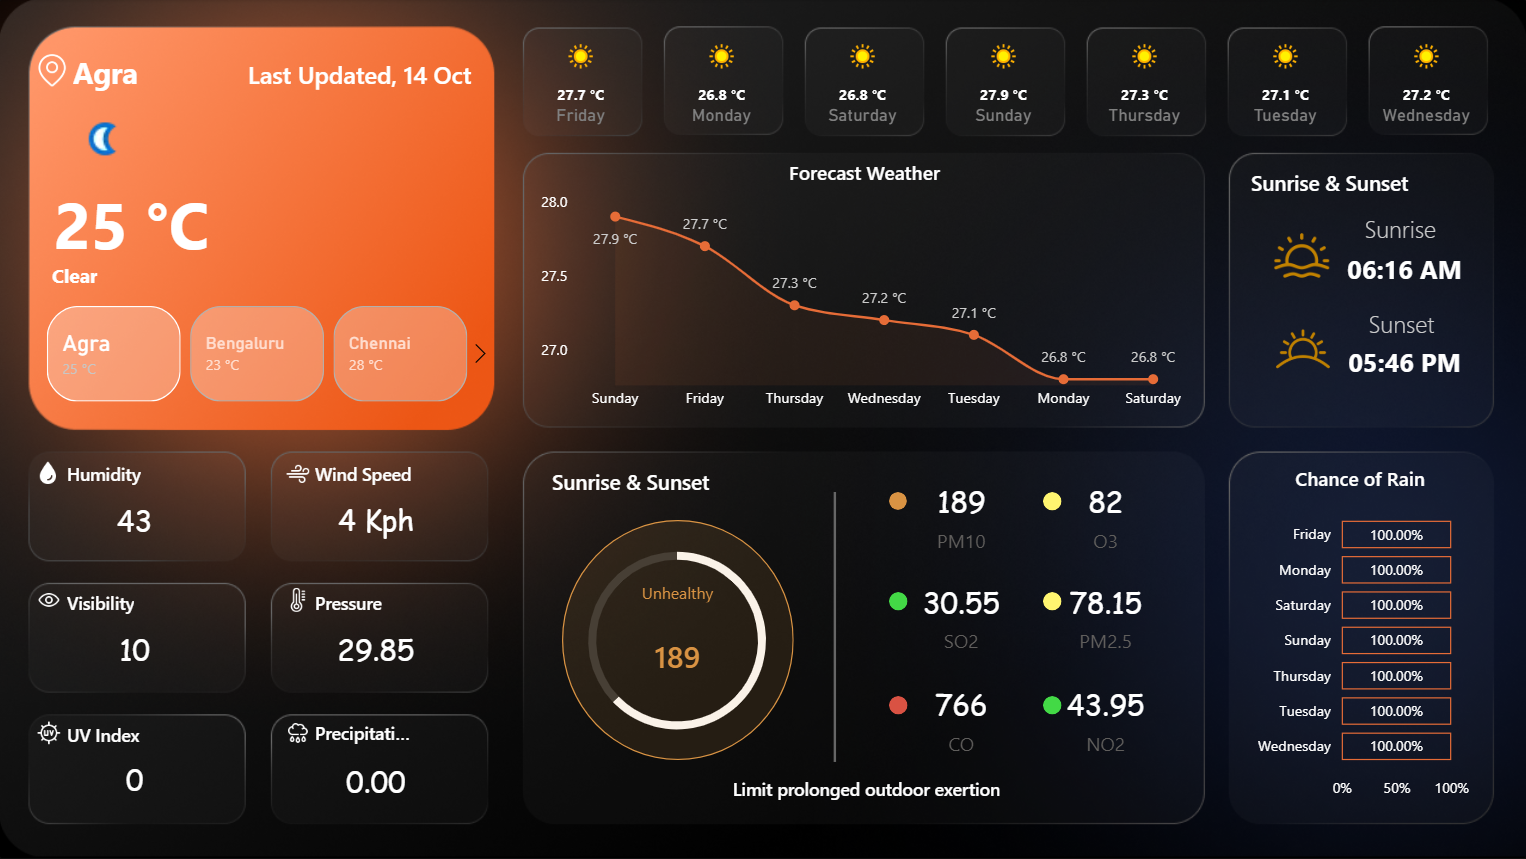

The dashboard page shown, as its layout file describes it:
{"tool":"powerbi","page":{"name":"Page 1","canvas":[1280,720],"ordinal":0},"visuals":[{"type":"donutChart","fields":{"Y":["Sum(Current.current.air_quality.pm10)","_Measures.Left_value_PM10"]},"box":[470,426,196,222],"z":0},{"type":"advancedSlicerVisual","fields":{"Values":["Locations.location.name"]},"box":[15.1,251.9,403.3,90.8],"z":1000},{"type":"shape","box":[15.7,141.4,190,90],"z":2000},{"type":"shape","box":[44.7,213.8,356.3,34.9],"z":3000},{"type":"shape","box":[61.9,44,133.5,34.4],"z":4000},{"type":"shape","box":[208.2,46.1,206.8,33.5],"z":5000},{"type":"image","box":[26.2,39.9,37.2,39.9],"z":6000},{"type":"cardVisual","fields":{"Data":["Min(Current.current.condition.icon)"]},"box":[0,55.7,150,111.4],"z":7000},{"type":"image","box":[27,488.5,29.6,29.6],"z":8000},{"type":"shape","box":[264.7,384,83.6,26.1],"z":9000},{"type":"image","box":[26.1,381.4,30.5,30.5],"z":10000},{"type":"image","box":[235.1,382.3,29.6,29.6],"z":11000},{"type":"image","box":[235.1,488.5,29.6,29.6],"z":12000},{"type":"image","box":[27,599.1,29.6,29.6],"z":13000},{"type":"image","box":[235.1,599.1,29.6,29.6],"z":14000},{"type":"shape","box":[56.6,492,83.6,26.1],"z":15000},{"type":"shape","box":[56.6,602.6,83.6,26.1],"z":16000},{"type":"shape","box":[264.7,600.8,83.6,26.1],"z":17000},{"type":"shape","box":[264.7,492,83.6,26.1],"z":18000},{"type":"shape","box":[56.6,384,83.6,26.1],"z":19000},{"type":"card","fields":{"Values":["Sum(Current.current.humidity)"]},"box":[62,410.2,103,55.3],"z":20000},{"type":"card","fields":{"Values":["Sum(Current.current.uv)"]},"box":[62,627.1,103,56.1],"z":21000},{"type":"card","fields":{"Values":["Sum(Current.current.vis_km)"]},"box":[62,518.2,103,56.1],"z":22000},{"type":"card","fields":{"Values":["Sum(Current.current.precip_in)"]},"box":[264.1,628.8,103.4,55.9],"z":23000},{"type":"card","fields":{"Values":["Sum(Current.current.pressure_in)"]},"box":[264.1,518.4,103.4,55.9],"z":24000},{"type":"card","fields":{"Values":["_Measures.Wind_Speed"]},"box":[254.5,409.4,122.2,56.1],"z":25000},{"type":"advancedSlicerVisual","fields":{"Values":["Forcast_Day.Day_Name"]},"box":[429.4,23.4,829.9,100.5],"z":26000},{"type":"lineChart","title":"Forecast Weather","fields":{"Y":["Sum(Forcast_Day.forecast.forecastday.day.avgtemp_c)"],"Category":["Forcast_Day.Day_Name"]},"box":[447.9,134.8,553.4,217.7],"z":27000},{"type":"shape","box":[1048.4,140.9,152.4,25.9],"z":28000},{"type":"shape","box":[1081.3,180,190.5,90.7],"z":29000},{"type":"shape","box":[1081.3,257.5,190.5,90.7],"z":30000},{"type":"shape","box":[1132.6,257.5,82.8,26.3],"z":31000},{"type":"shape","box":[1131.2,178.7,84.1,26.3],"z":32000},{"type":"image","box":[1051.1,186.6,80.1,56.5],"z":33000},{"type":"image","box":[1051.1,257.5,81.5,69.6],"z":34000},{"type":"hundredPercentStackedBarChart","title":"Chance of Rain","fields":{"Y":["Sum(Forcast_Day.forecast.forecastday.day.daily_chance_of_rain)","Current.Left_value_Rain"],"Category":["Forcast_Day.Day_Name"]},"box":[1043.3,390.9,192.7,287.7],"z":35000},{"type":"shape","box":[463.1,391.2,152.4,25.9],"z":36000},{"type":"card","fields":{"Values":["Sum(Current.current.air_quality.o3)"]},"box":[866.4,397,119.9,72.4],"z":37000},{"type":"card","fields":{"Values":["Sum(Current.current.air_quality.pm10)"]},"box":[745.5,397,121,72.4],"z":38000},{"type":"card","fields":{"Values":["Sum(Current.current.air_quality.so2)"]},"box":[745.5,481.8,121,71.3],"z":39000},{"type":"card","fields":{"Values":["Sum(Current.current.air_quality.pm2_5)"]},"box":[866.4,481.8,119.9,71.3],"z":40000},{"type":"card","fields":{"Values":["Sum(Current.current.air_quality.co)"]},"box":[745.5,566.6,121,72.4],"z":41000},{"type":"card","fields":{"Values":["Sum(Current.current.air_quality.no2)"]},"box":[866.4,566.6,119.9,72.4],"z":42000},{"type":"shape","box":[745.5,412.5,15,15],"z":43000},{"type":"shape","box":[873.7,412.5,15.5,15.5],"z":44000},{"type":"shape","box":[745.5,496.3,15.5,15.5],"z":45000},{"type":"shape","box":[745.5,583.1,15.5,15.5],"z":46000},{"type":"shape","box":[873.7,583.1,15.5,15.5],"z":47000},{"type":"shape","box":[873.7,496.3,15.5,15.5],"z":48000},{"type":"shape","box":[675,413,50,226],"z":49000},{"type":"shape","box":[471,436,194,201],"z":50000},{"type":"card","fields":{"Values":["Sum(Current.current.air_quality.pm10)"]},"box":[504,488,128,109],"z":51000},{"type":"shape","box":[572,648,309,26],"z":52000}]}

Visuals, with their boxes in screenshot pixels (x1, y1, x2, y2), scaled from the page's 1280x720 canvas onto the 1526x859 screenshot:
donutChart - Sum(Current.current.air_quality.pm10) x _Measures.Left_value_PM10: region(560, 508, 794, 773)
advancedSlicerVisual - Locations.location.name: region(18, 301, 499, 409)
shape: region(19, 169, 245, 276)
shape: region(53, 255, 478, 297)
shape: region(74, 52, 233, 94)
shape: region(248, 55, 495, 95)
image: region(31, 48, 76, 95)
cardVisual - Min(Current.current.condition.icon): region(0, 66, 179, 199)
image: region(32, 583, 67, 618)
shape: region(316, 458, 415, 489)
image: region(31, 455, 67, 491)
image: region(280, 456, 316, 491)
image: region(280, 583, 316, 618)
image: region(32, 715, 67, 750)
image: region(280, 715, 316, 750)
shape: region(67, 587, 167, 618)
shape: region(67, 719, 167, 750)
shape: region(316, 717, 415, 748)
shape: region(316, 587, 415, 618)
shape: region(67, 458, 167, 489)
card - Sum(Current.current.humidity): region(74, 489, 197, 555)
card - Sum(Current.current.uv): region(74, 748, 197, 815)
card - Sum(Current.current.vis_km): region(74, 618, 197, 685)
card - Sum(Current.current.precip_in): region(315, 750, 438, 817)
card - Sum(Current.current.pressure_in): region(315, 618, 438, 685)
card - _Measures.Wind_Speed: region(303, 488, 449, 555)
advancedSlicerVisual - Forcast_Day.Day_Name: region(512, 28, 1501, 148)
"Forecast Weather" lineChart: region(534, 161, 1194, 421)
shape: region(1250, 168, 1432, 199)
shape: region(1289, 215, 1516, 323)
shape: region(1289, 307, 1516, 415)
shape: region(1350, 307, 1449, 339)
shape: region(1349, 213, 1449, 245)
image: region(1253, 223, 1349, 290)
image: region(1253, 307, 1350, 390)
"Chance of Rain" hundredPercentStackedBarChart: region(1244, 466, 1474, 810)
shape: region(552, 467, 734, 498)
card - Sum(Current.current.air_quality.o3): region(1033, 474, 1176, 560)
card - Sum(Current.current.air_quality.pm10): region(889, 474, 1033, 560)
card - Sum(Current.current.air_quality.so2): region(889, 575, 1033, 660)
card - Sum(Current.current.air_quality.pm2_5): region(1033, 575, 1176, 660)
card - Sum(Current.current.air_quality.co): region(889, 676, 1033, 762)
card - Sum(Current.current.air_quality.no2): region(1033, 676, 1176, 762)
shape: region(889, 492, 907, 510)
shape: region(1042, 492, 1060, 511)
shape: region(889, 592, 907, 611)
shape: region(889, 696, 907, 714)
shape: region(1042, 696, 1060, 714)
shape: region(1042, 592, 1060, 611)
shape: region(805, 493, 864, 762)
shape: region(562, 520, 793, 760)
card - Sum(Current.current.air_quality.pm10): region(601, 582, 753, 712)
shape: region(682, 773, 1050, 804)
